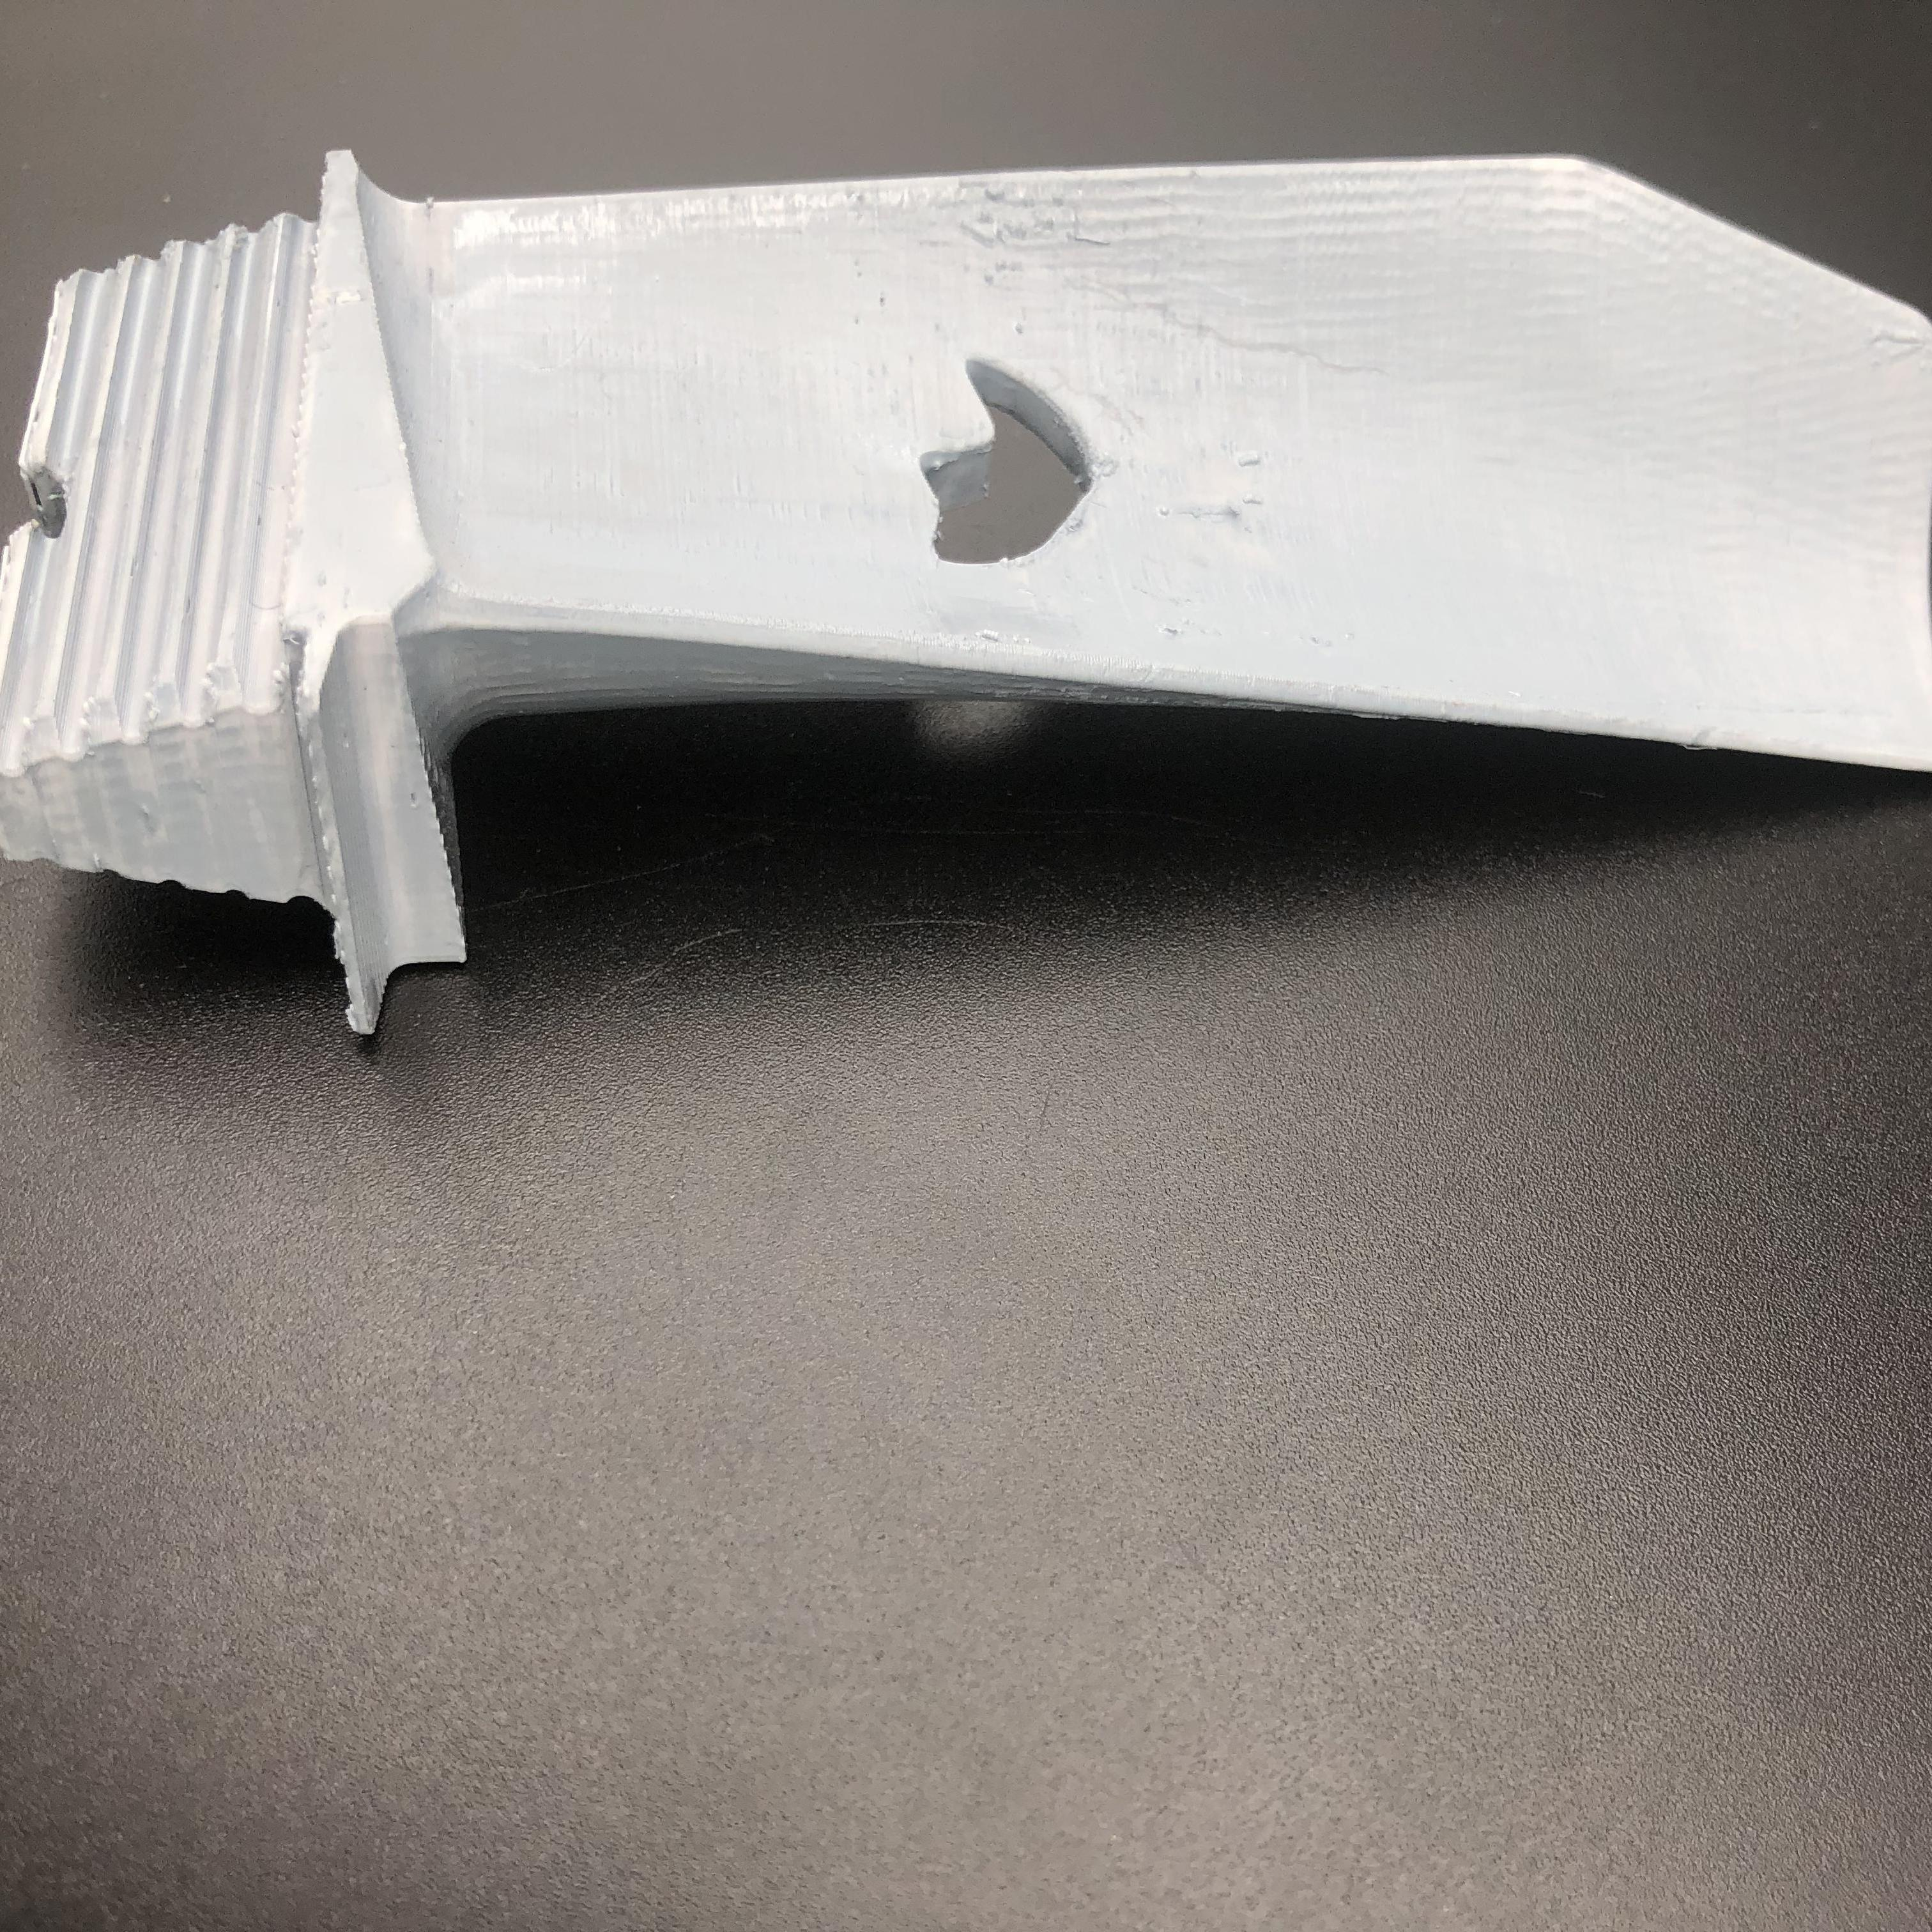breakdown: (895, 361, 1113, 580)
